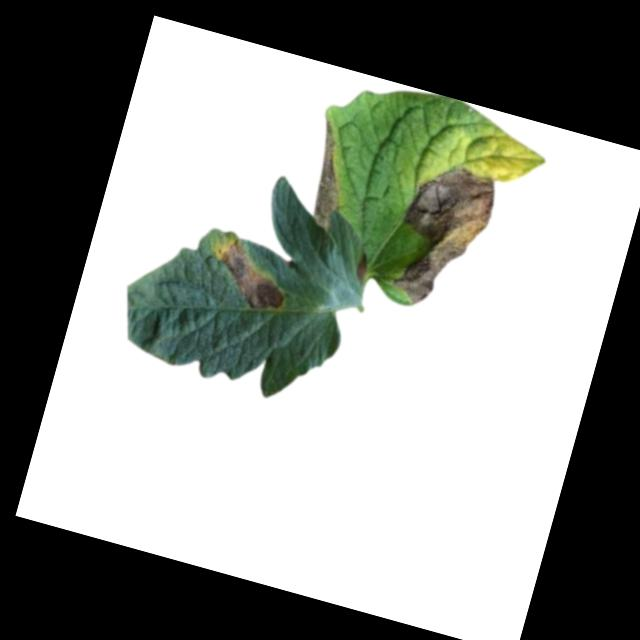Early_blight: (380, 154, 501, 319), (203, 232, 296, 317), (296, 120, 359, 232), (353, 252, 372, 284)
